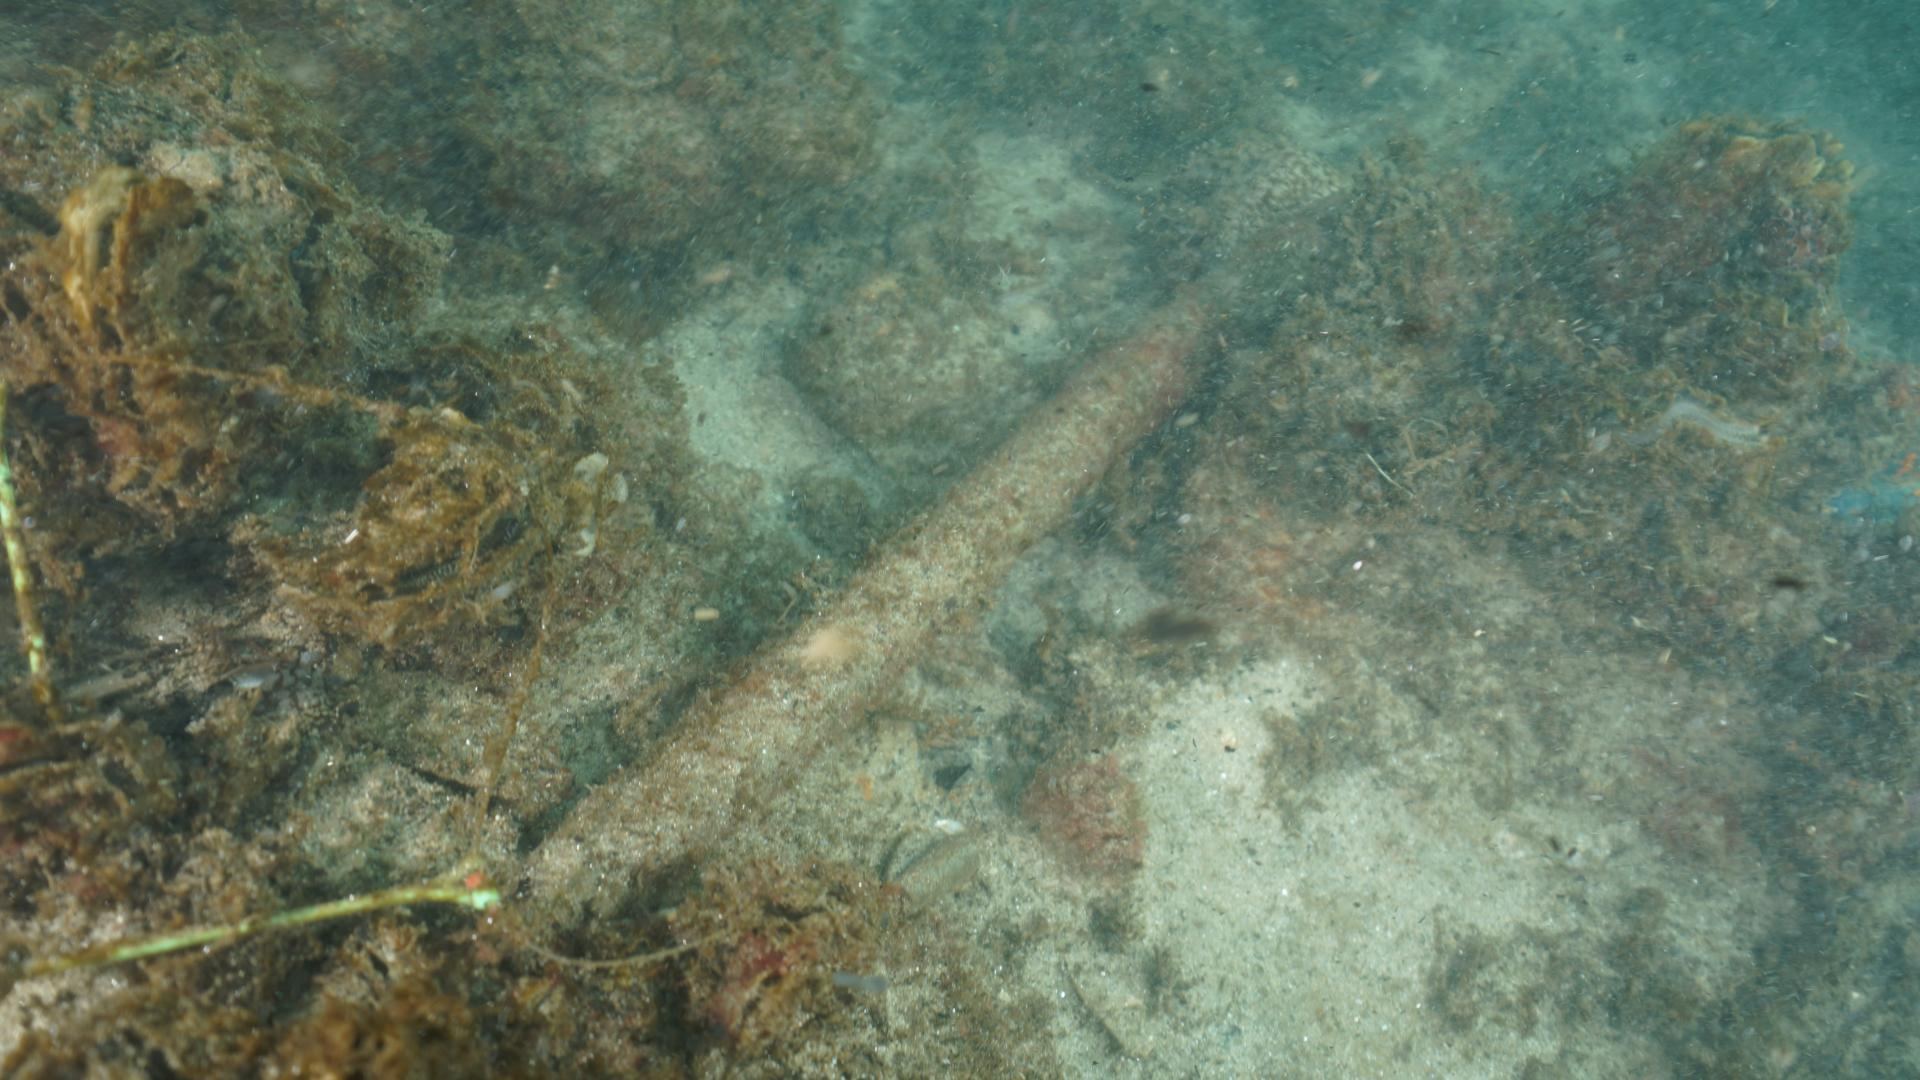wood: (501, 3, 1572, 938)
